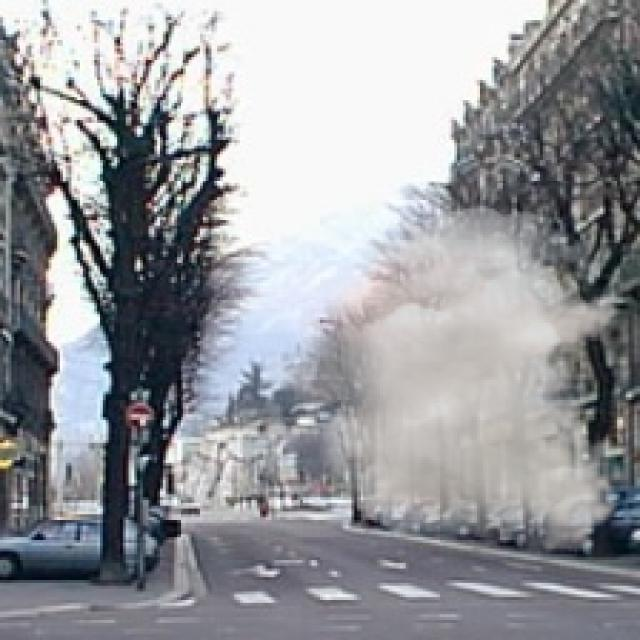smoke: (274, 206, 629, 554)
